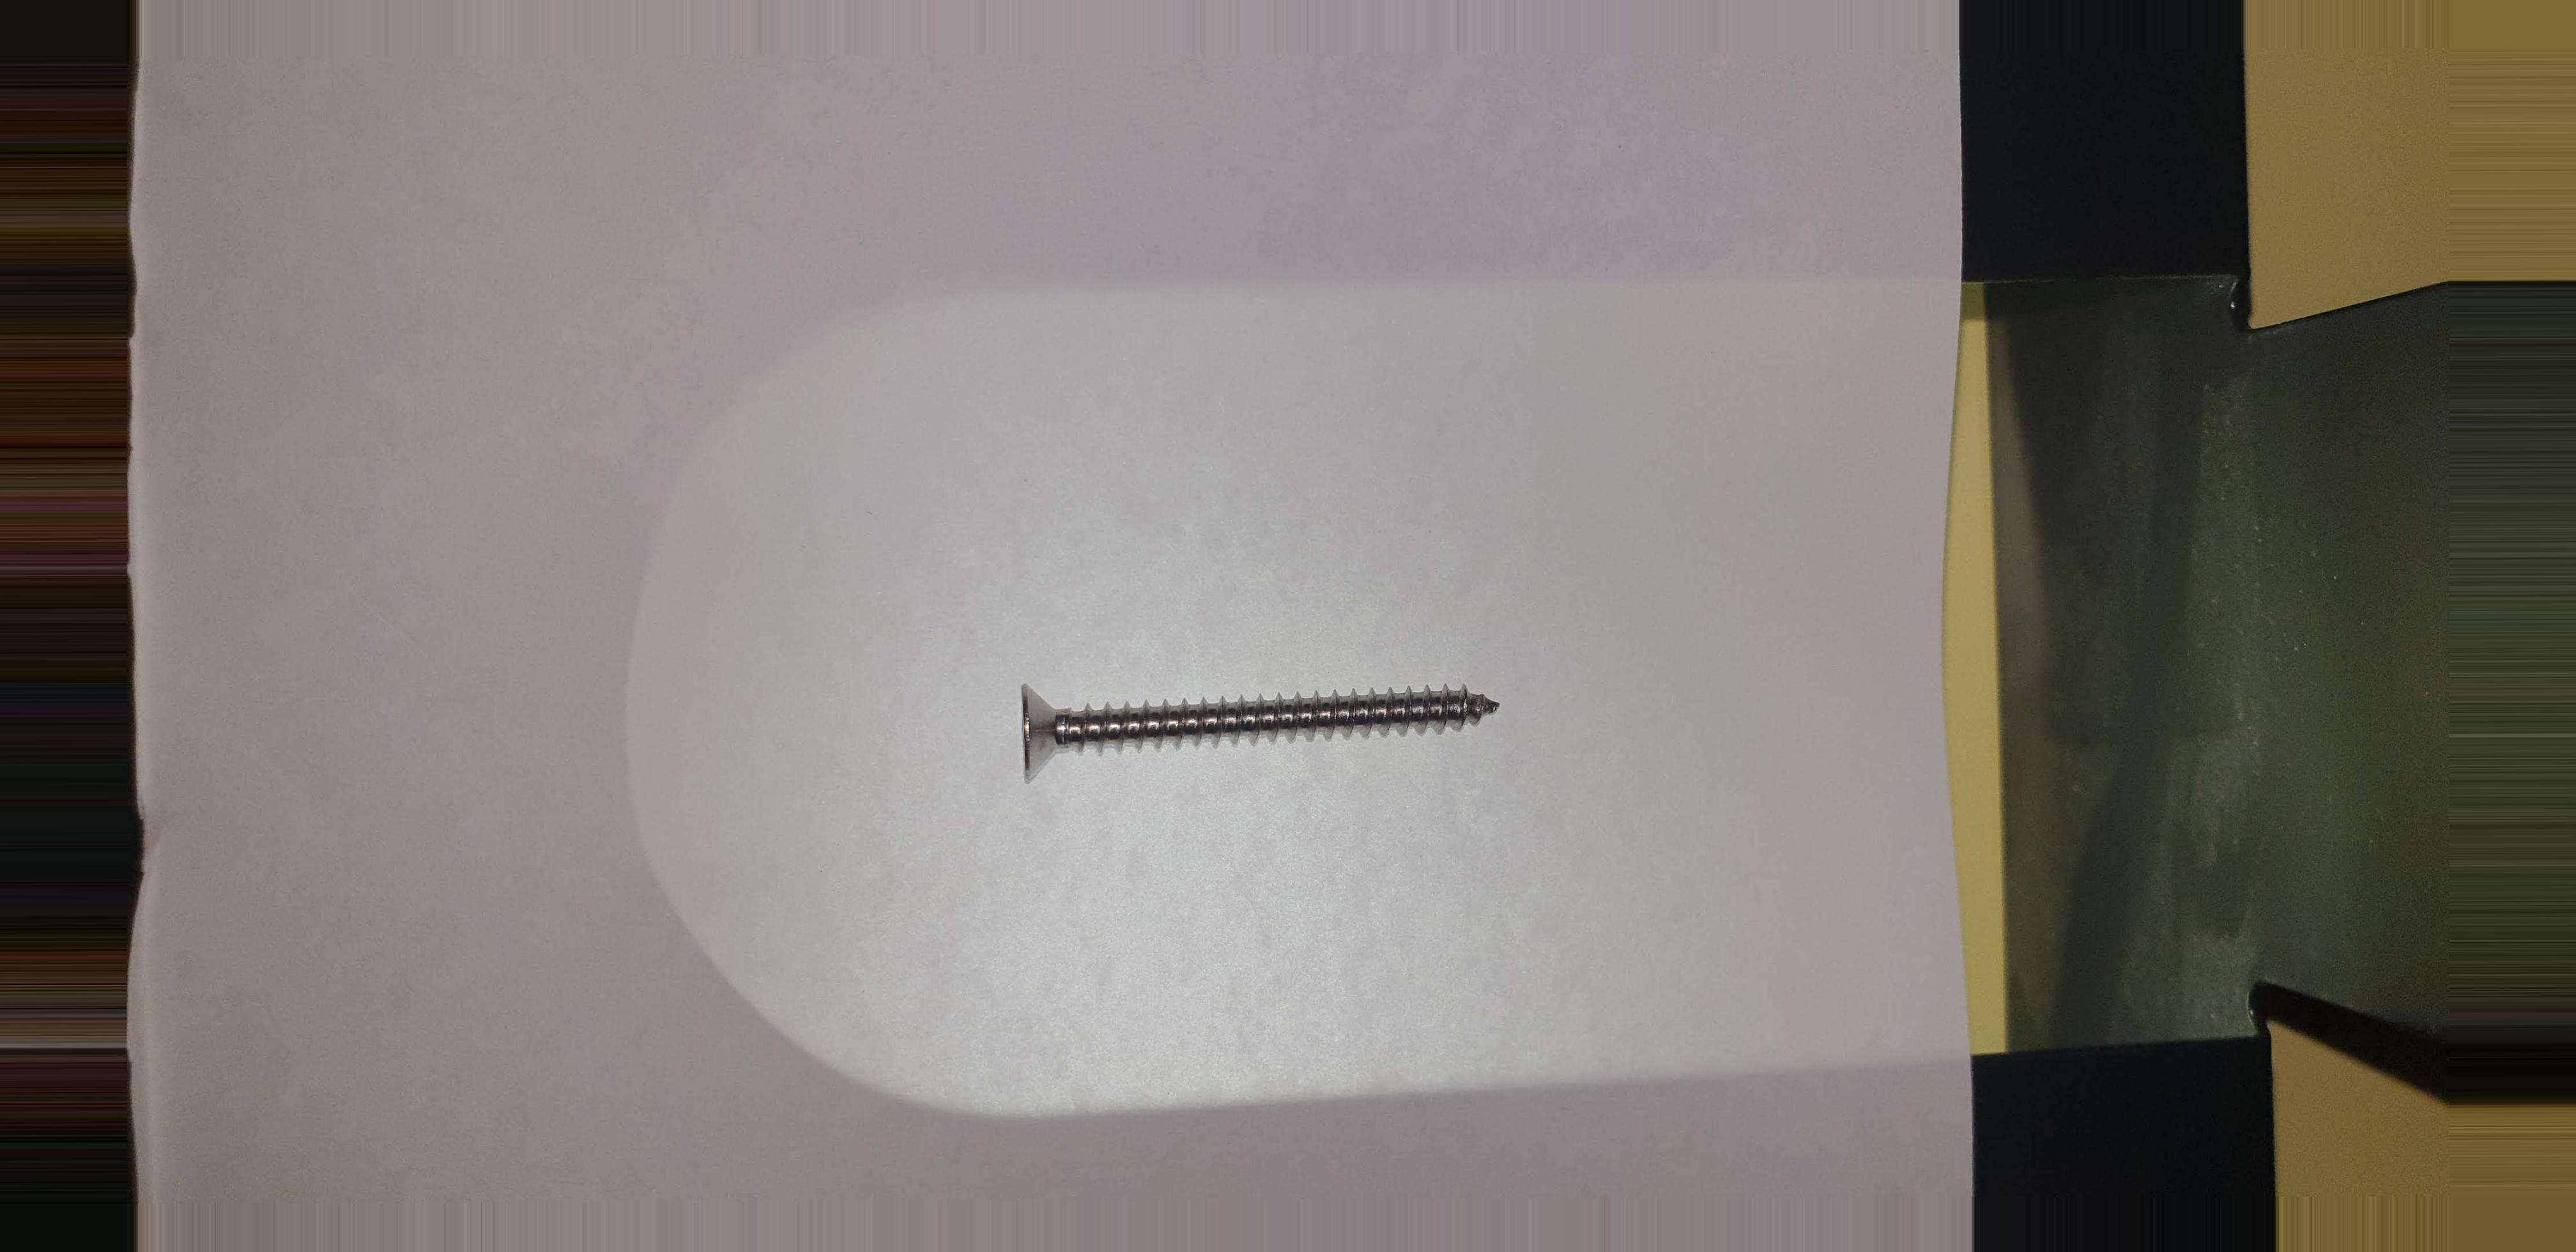fastener: (945, 638, 1598, 808)
